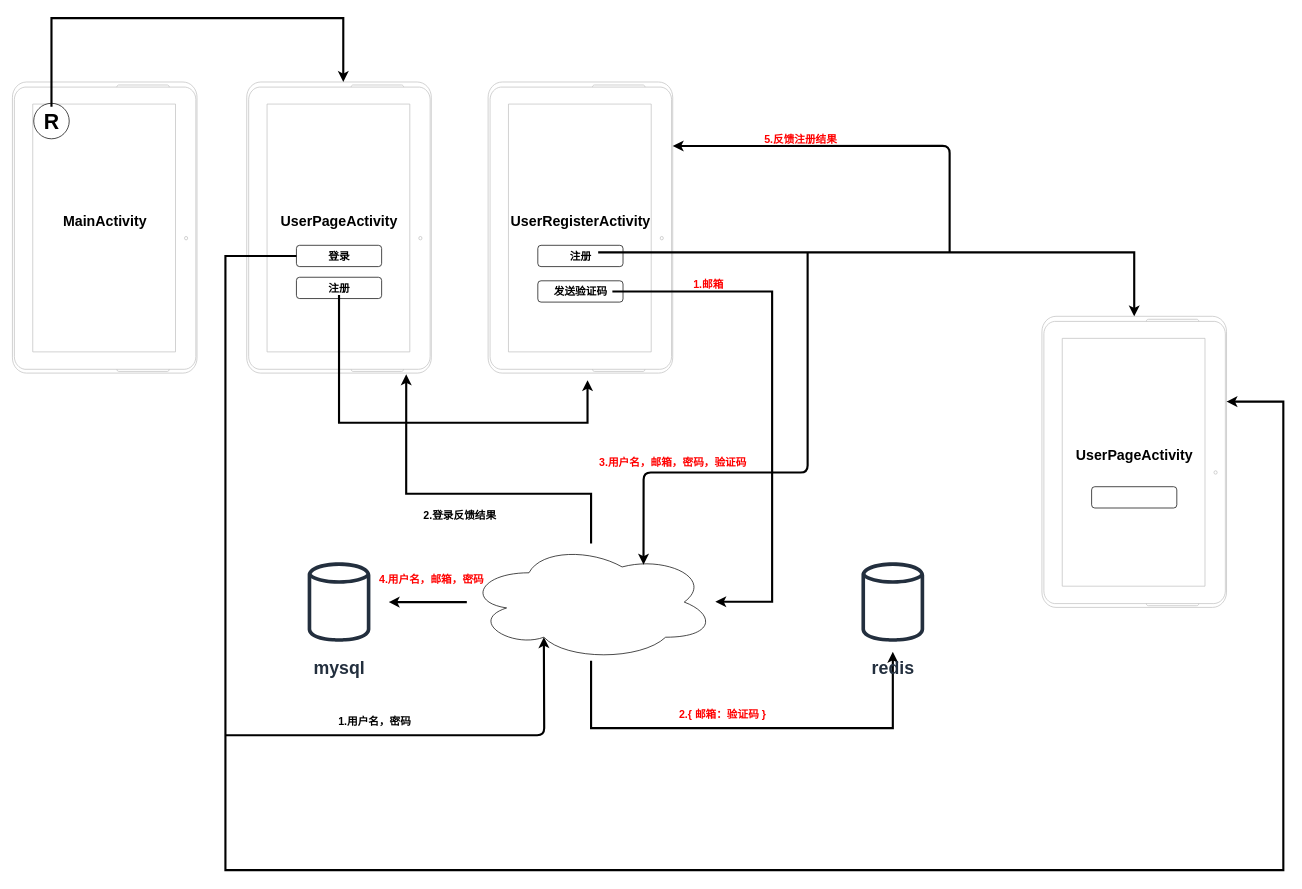
Image size: 1302x889. Some labels were removed from this diagram. The centre of each missing label's shape, as x and y in pixels:
云服务器: pixel 590 602
查看报告: pixel 1134 497
